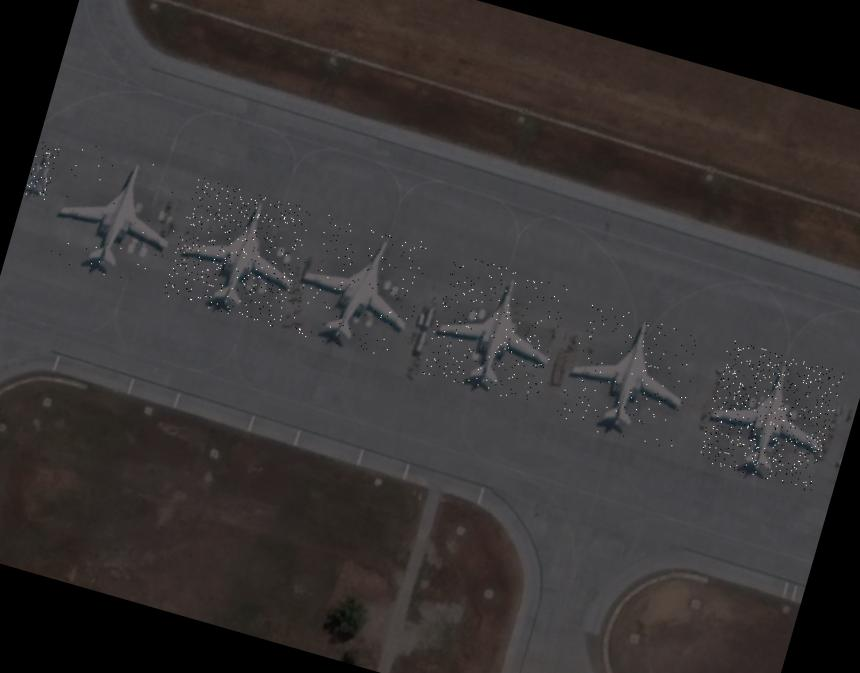A20: (24, 140, 62, 201)
A6: (163, 176, 313, 329), (420, 253, 570, 406), (555, 300, 705, 453), (696, 339, 846, 492), (43, 140, 193, 292), (284, 212, 434, 364)
